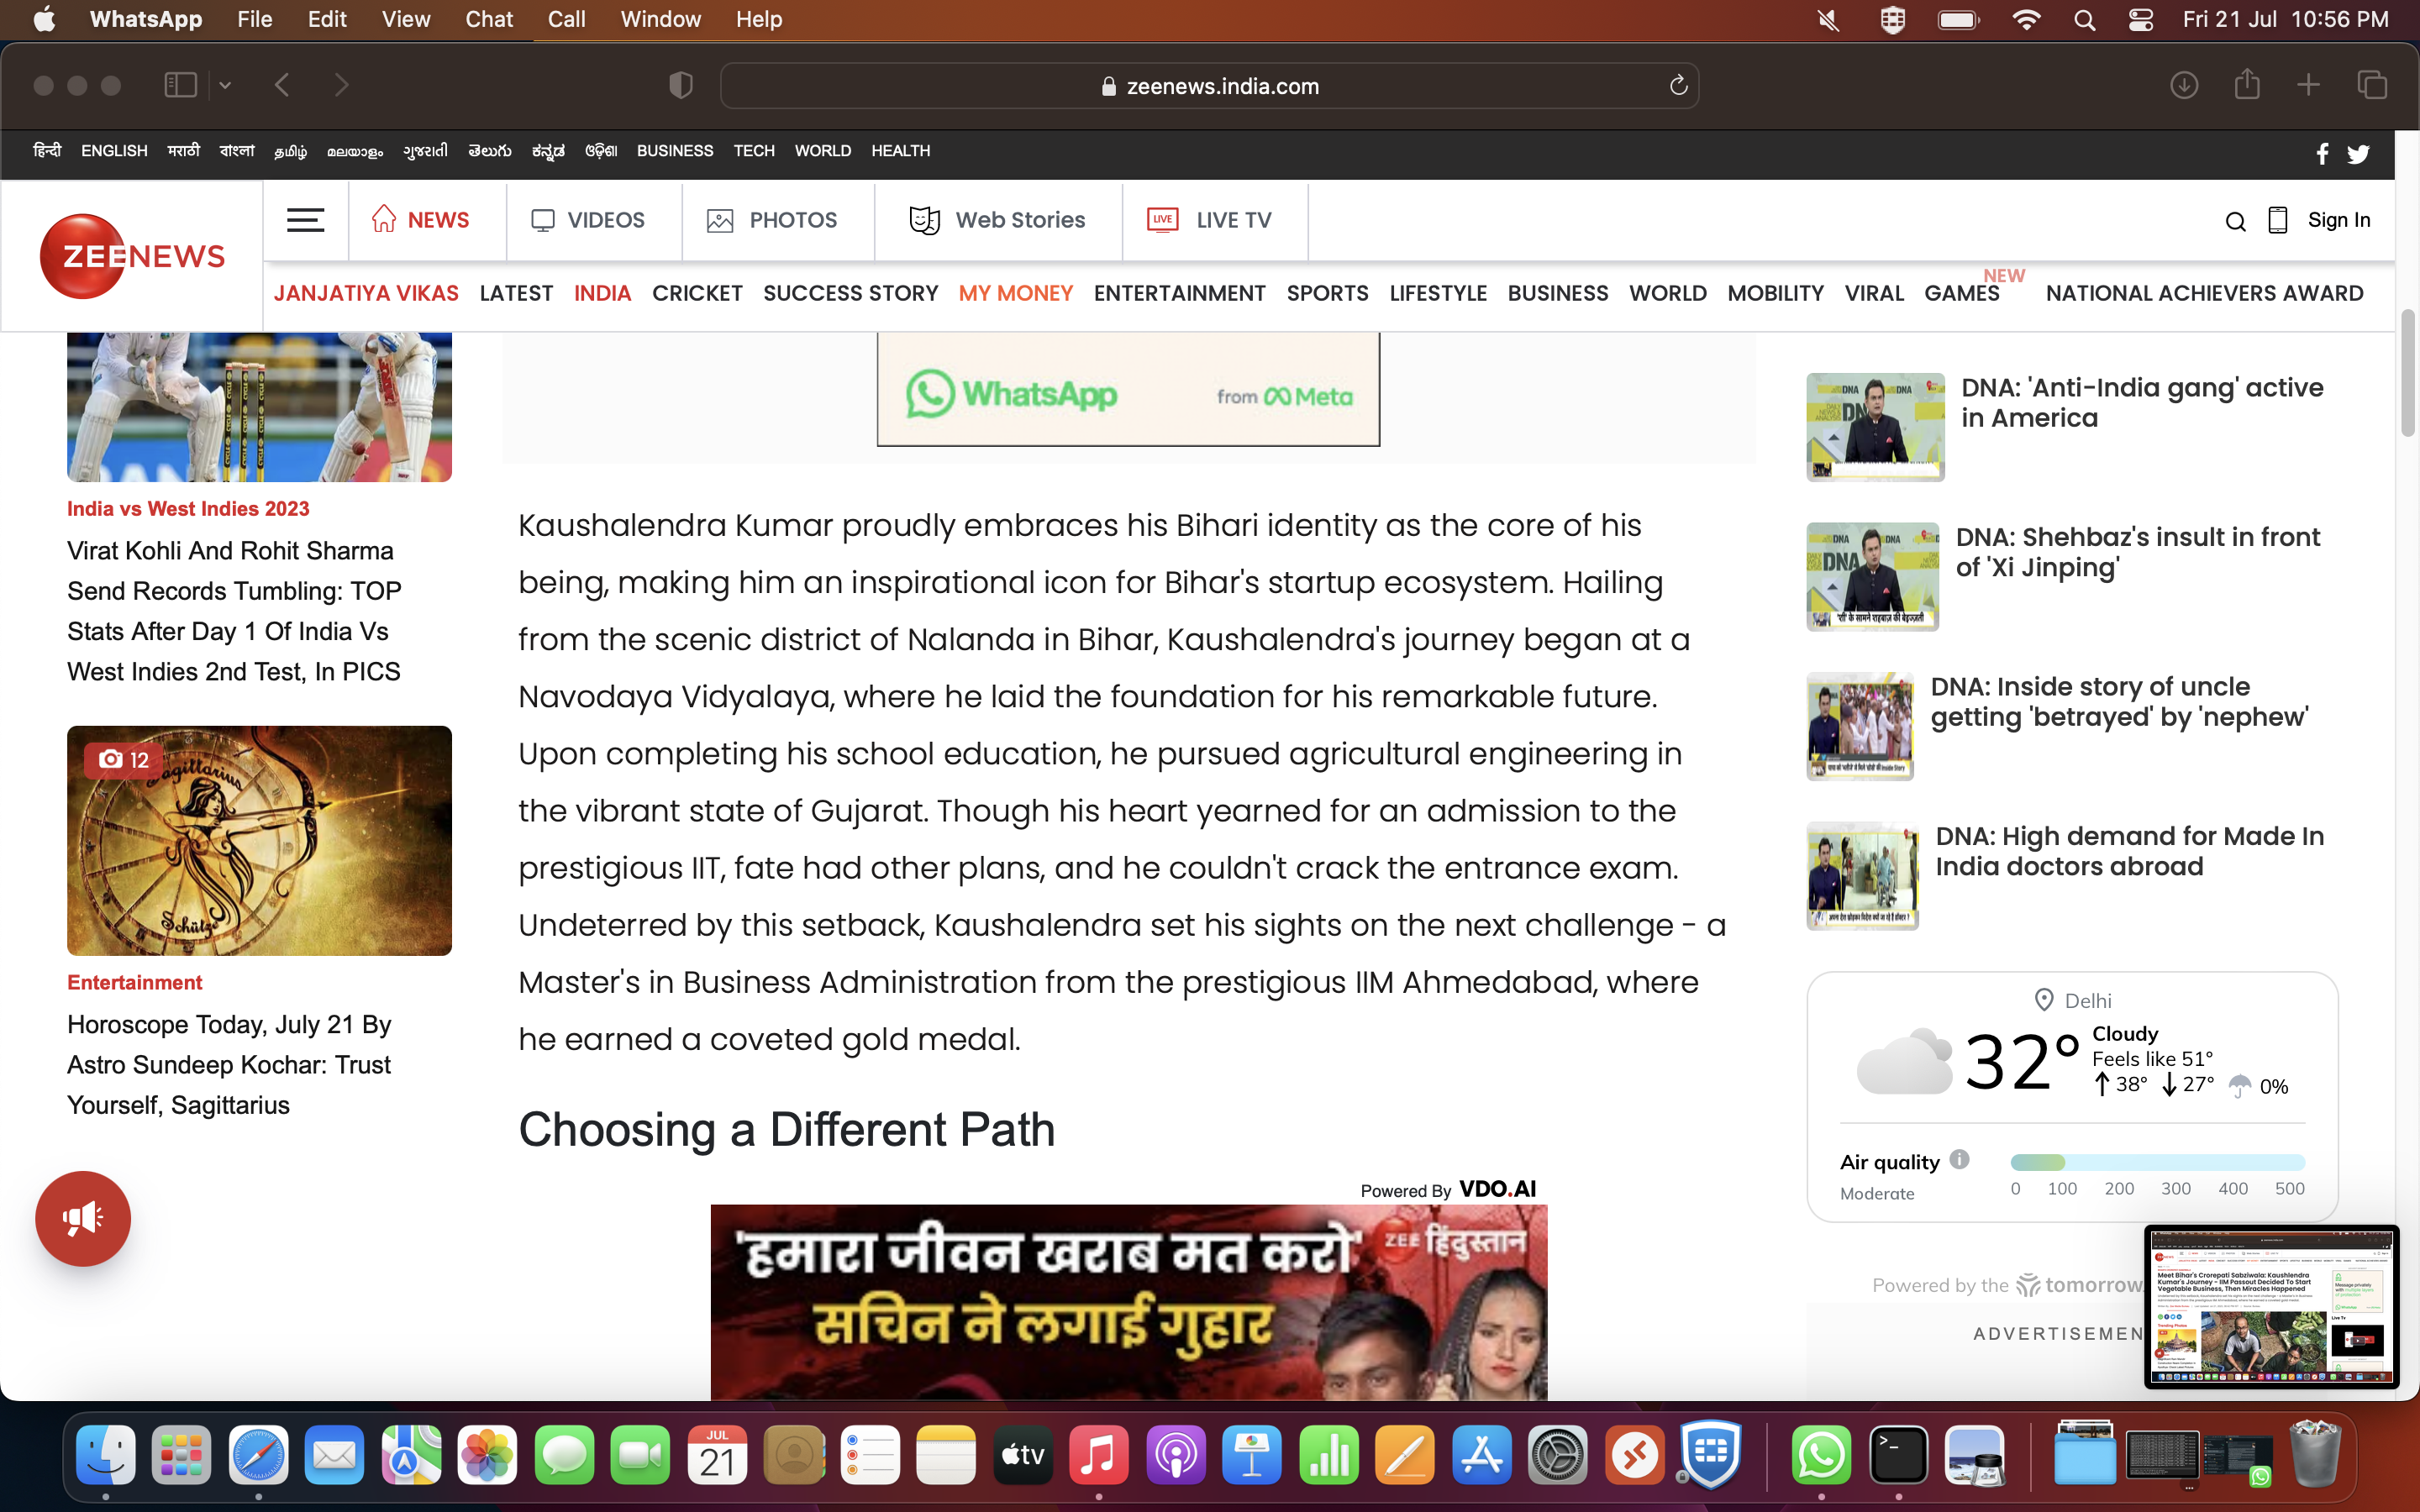Image: (713, 1205, 1551, 1404), (63, 719, 456, 962), (66, 329, 453, 483), (873, 336, 1382, 442), (33, 200, 230, 307), (1801, 359, 1948, 483), (1807, 519, 1944, 629), (1801, 819, 1923, 932), (1801, 676, 1923, 779)
Paragraph: (505, 493, 1744, 1071), (59, 526, 413, 692), (519, 1092, 1068, 1169), (59, 1009, 399, 1129), (1927, 658, 2329, 739), (1934, 808, 2333, 885), (1951, 509, 2329, 589), (1951, 369, 2333, 439), (2051, 267, 2366, 307), (756, 273, 943, 322), (1092, 270, 1275, 319), (1352, 1172, 1551, 1212), (59, 489, 322, 519), (277, 270, 463, 310), (1725, 267, 1831, 319), (59, 969, 220, 1002), (476, 263, 570, 319), (1495, 270, 1612, 314), (1923, 267, 2037, 307), (962, 270, 1082, 307), (1282, 267, 1375, 314), (1397, 267, 1488, 314), (655, 267, 749, 310), (1847, 263, 1911, 319), (2300, 193, 2380, 233), (1627, 273, 1711, 310), (570, 267, 632, 314)
